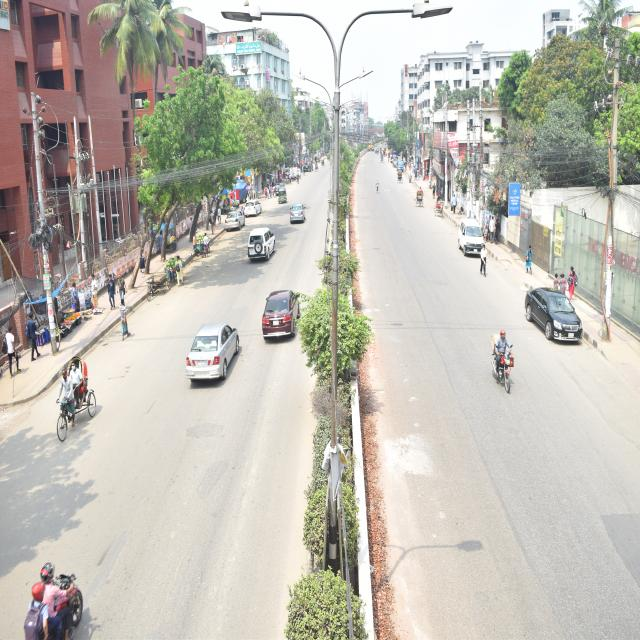car: (518, 272, 598, 380), (172, 298, 246, 410), (248, 271, 318, 383), (448, 210, 498, 270), (247, 222, 293, 270), (221, 194, 262, 236), (285, 198, 315, 237), (244, 192, 272, 220)
motorbike: (0, 534, 130, 640), (470, 292, 534, 419)
